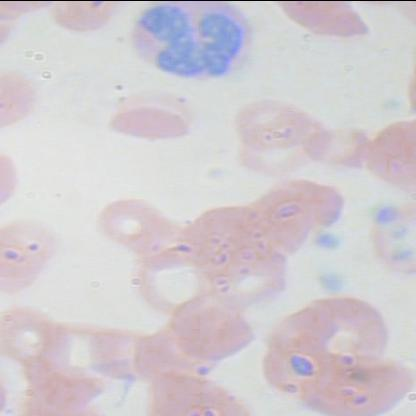Platelets: (307, 228, 349, 256), (312, 267, 354, 295), (368, 197, 410, 224)
RBC: (287, 294, 399, 370), (296, 347, 416, 415), (97, 76, 206, 148), (182, 196, 274, 274), (224, 186, 320, 260), (86, 320, 178, 387), (124, 246, 215, 312), (125, 330, 216, 396), (35, 312, 126, 378), (91, 190, 187, 252), (167, 302, 258, 367), (1, 302, 82, 370), (356, 193, 415, 284), (233, 94, 329, 148), (230, 127, 326, 181), (0, 235, 68, 308), (0, 212, 68, 284), (257, 1, 374, 39), (46, 1, 140, 44), (300, 125, 378, 171), (20, 380, 110, 416)
WBC: (129, 1, 260, 91)
